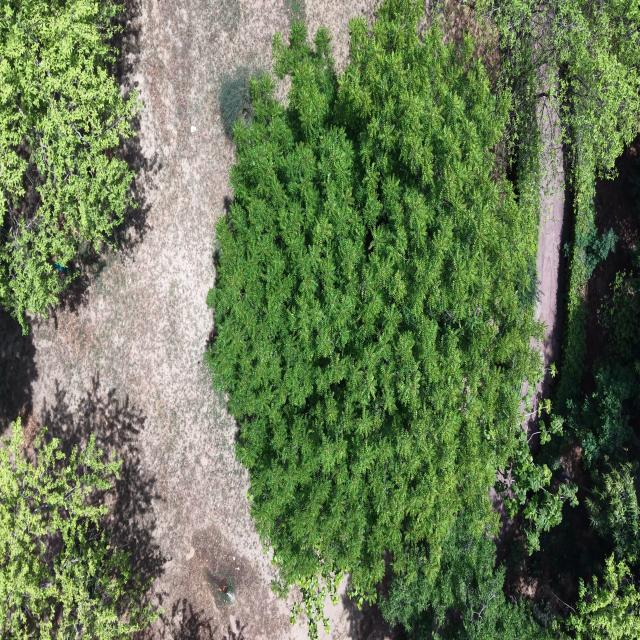DRY_AREA: (12, 0, 376, 639), (521, 103, 566, 448), (581, 136, 639, 397), (524, 101, 566, 450), (585, 135, 639, 372), (527, 102, 565, 433), (536, 105, 564, 368)
VEGETATION_TREE: (207, 0, 639, 639), (208, 0, 639, 638), (207, 0, 574, 637), (478, 0, 639, 583), (477, 0, 639, 419), (478, 0, 639, 410), (516, 139, 639, 638), (0, 0, 136, 330), (562, 153, 639, 637), (553, 0, 639, 410), (0, 419, 157, 639), (476, 0, 639, 200), (381, 517, 639, 639), (380, 514, 552, 639), (470, 0, 550, 220), (567, 271, 639, 495), (496, 430, 577, 554), (567, 555, 639, 639), (587, 463, 639, 562), (219, 67, 252, 139), (629, 167, 639, 213)
